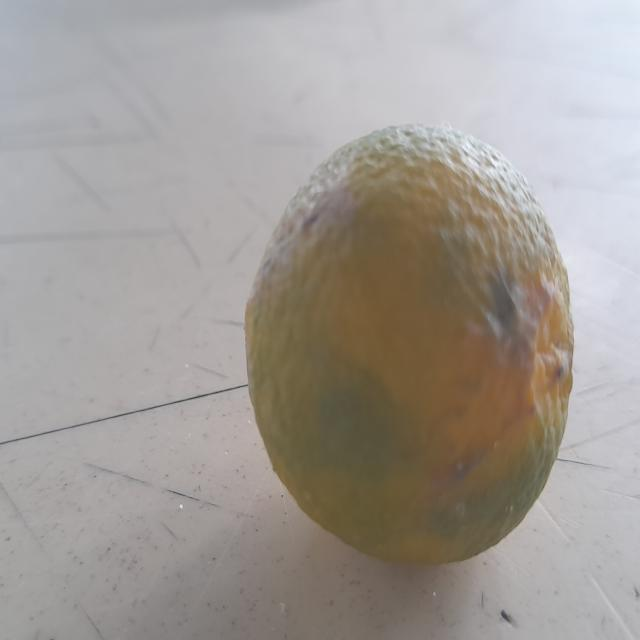greening: (240, 113, 584, 563)
